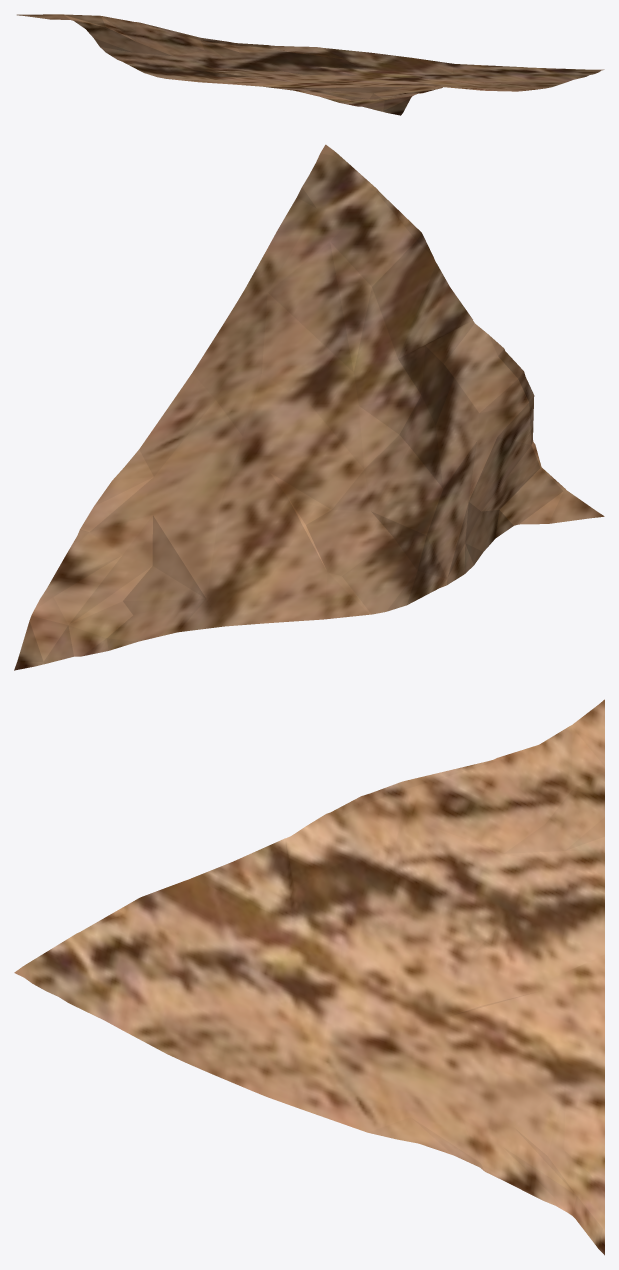
3 views of the same model, one above another, from view 1: azimuth 30°, elevation 25°; view 2: azimuth 150°, elevation 25°; view 3: azimuth 270°, elevation 25° (orthographic). The views are drawn at different scales.
Bounding box in the file's own units: 0.3502 × 0.1688 × 0.3198.
Materials: 1 (1 with a texture image).
